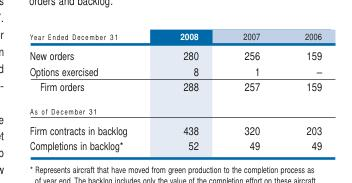table: (29, 29, 321, 152)
table column: (29, 29, 152, 152), (152, 29, 220, 152), (220, 29, 281, 152), (281, 29, 321, 152)
table column header: (29, 29, 321, 44)
table projected row header: (29, 99, 321, 119)
table row: (29, 78, 321, 99), (29, 99, 321, 119), (29, 44, 321, 62), (29, 119, 321, 137), (29, 62, 321, 78), (29, 29, 321, 44), (29, 137, 321, 152)
